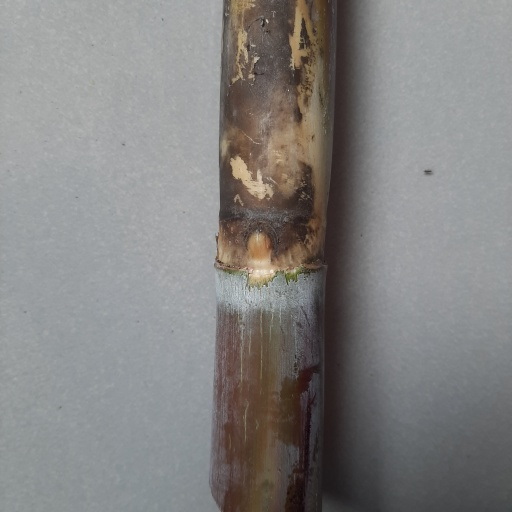Bud: (246, 228, 274, 260)
